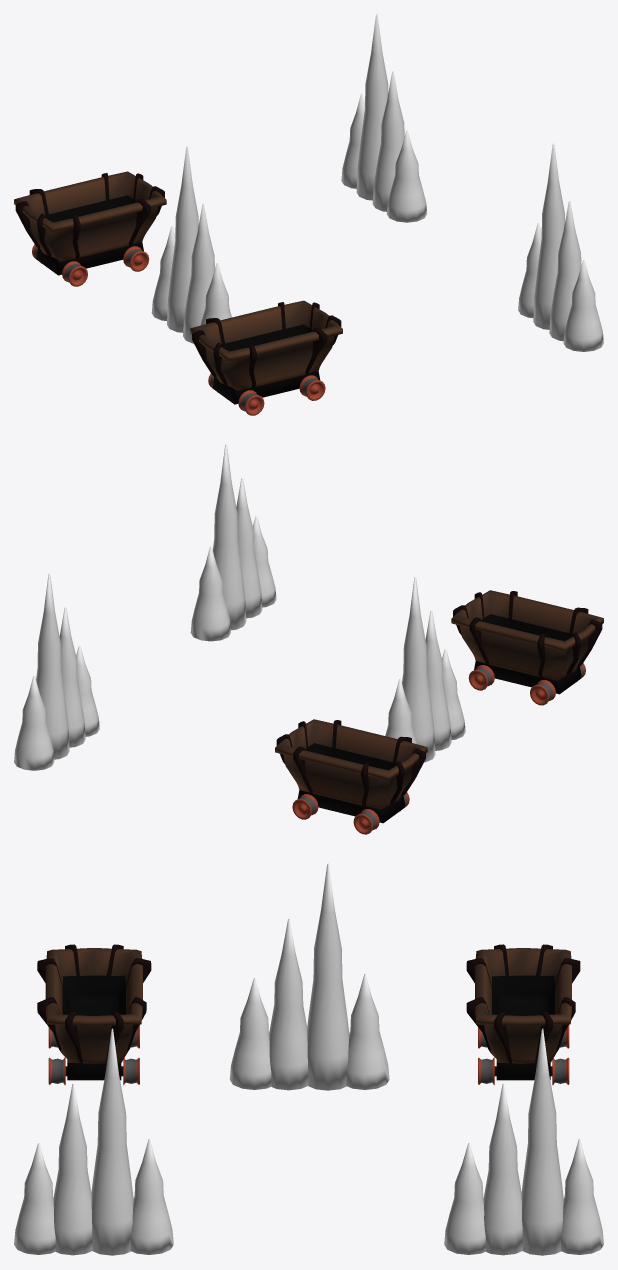
Rendered from Parte 3 obstáculos 1.fbx.
3 views of the same model, one above another, from view 1: azimuth 30°, elevation 25°; view 2: azimuth 150°, elevation 25°; view 3: azimuth 270°, elevation 25° (orthographic). The views are drawn at different scales.
Visible parts, largest first — view 1: ESTALACTITA BUENA.003, ESTALACTITA BUENA.001, ESTALACTITA BUENA.002, MineCart.014, MineCart.011, MineCart.015, MineCart.012, MineCart.008, MineCart.009, MineCart.013, MineCart.010, MineCart.017 (+1 smaller); view 2: ESTALACTITA BUENA.003, ESTALACTITA BUENA.001, ESTALACTITA BUENA.002, MineCart.011, MineCart.014, MineCart.012, MineCart.015, MineCart.013, MineCart.009, MineCart.008, MineCart.010, MineCart.016 (+1 smaller); view 3: ESTALACTITA BUENA.001, ESTALACTITA BUENA.002, ESTALACTITA BUENA.003, MineCart.011, MineCart.014, MineCart.017, MineCart.016, MineCart.015, MineCart.012, MineCart.013, MineCart.010, MineCart.009 (+1 smaller).
Part boxes in pixels (box(x1,y1,x2,y2)): ESTALACTITA BUENA.003: box(341, 14, 427, 222); ESTALACTITA BUENA.001: box(518, 143, 603, 351); ESTALACTITA BUENA.002: box(151, 146, 231, 343); MineCart.014: box(14, 171, 166, 261); MineCart.011: box(190, 300, 342, 390); MineCart.015: box(15, 173, 164, 258); MineCart.012: box(192, 302, 341, 387); MineCart.008: box(36, 242, 143, 275); MineCart.009: box(212, 371, 320, 404); MineCart.013: box(32, 244, 149, 286); MineCart.010: box(208, 373, 325, 415); MineCart.017: box(221, 324, 312, 351); ESTALACTITA BUENA.003: box(14, 574, 99, 770); ESTALACTITA BUENA.001: box(190, 444, 276, 641); ESTALACTITA BUENA.002: box(385, 577, 465, 762); MineCart.011: box(451, 590, 603, 680); MineCart.014: box(275, 719, 427, 809); MineCart.012: box(453, 591, 602, 677); MineCart.015: box(276, 720, 425, 806); MineCart.013: box(292, 792, 409, 834); MineCart.009: box(474, 661, 581, 694); MineCart.008: box(297, 790, 405, 823); MineCart.010: box(468, 663, 585, 705); MineCart.016: box(305, 743, 396, 770); ESTALACTITA BUENA.001: box(14, 1028, 173, 1255); ESTALACTITA BUENA.002: box(229, 863, 389, 1090); ESTALACTITA BUENA.003: box(444, 1028, 603, 1255); MineCart.011: box(45, 948, 142, 1064); MineCart.014: box(475, 948, 571, 1064); MineCart.017: box(62, 975, 125, 1015); MineCart.016: box(492, 975, 554, 1015); MineCart.015: box(466, 944, 580, 1062); MineCart.012: box(37, 944, 151, 1062); MineCart.013: box(478, 1025, 569, 1085); MineCart.010: box(48, 1025, 139, 1085); MineCart.009: box(65, 1063, 123, 1080).
Bounding box in the file's own units: 1000 × 454 × 1120.
